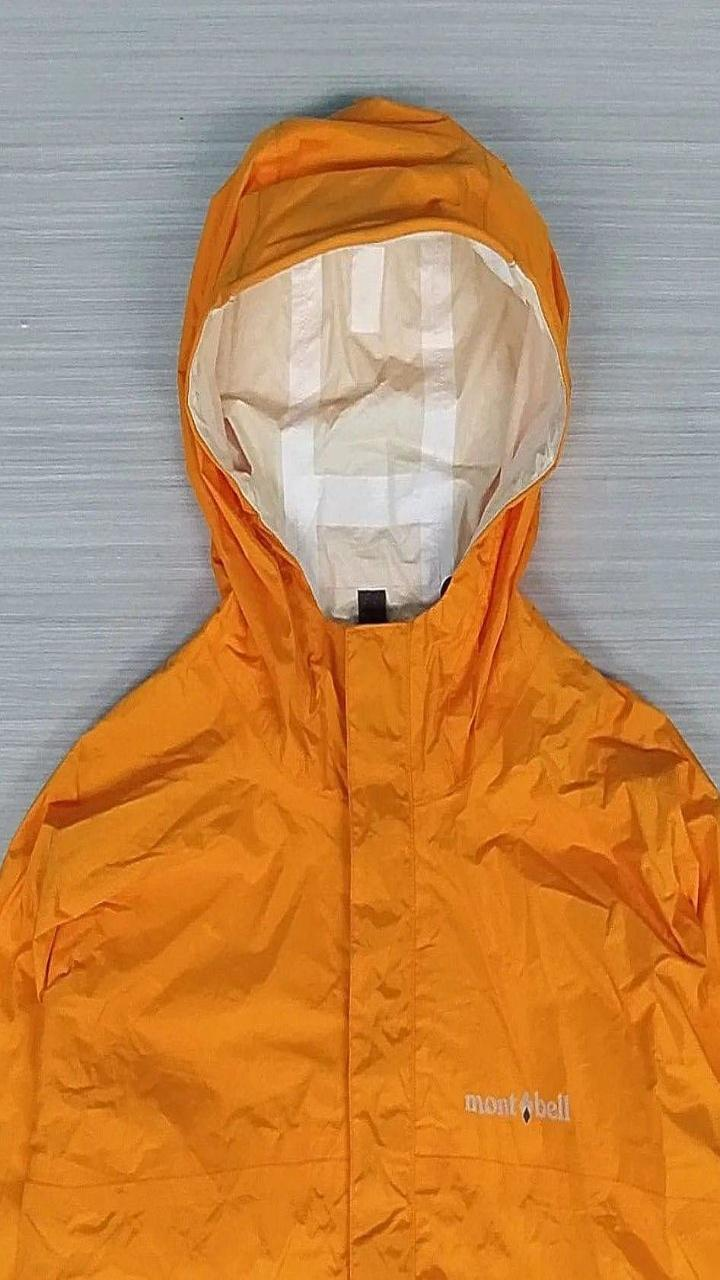Coat: (0, 98, 719, 1279)
